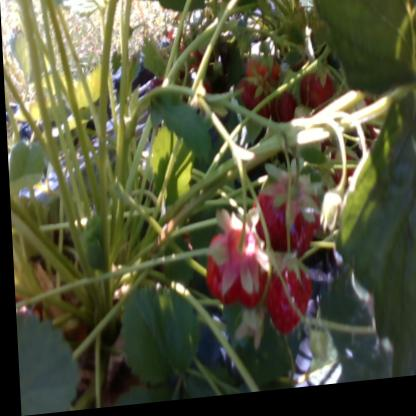ripe: (251, 187, 320, 266), (200, 227, 260, 312), (263, 271, 309, 340), (299, 71, 337, 119), (237, 81, 272, 128), (272, 92, 297, 128)
